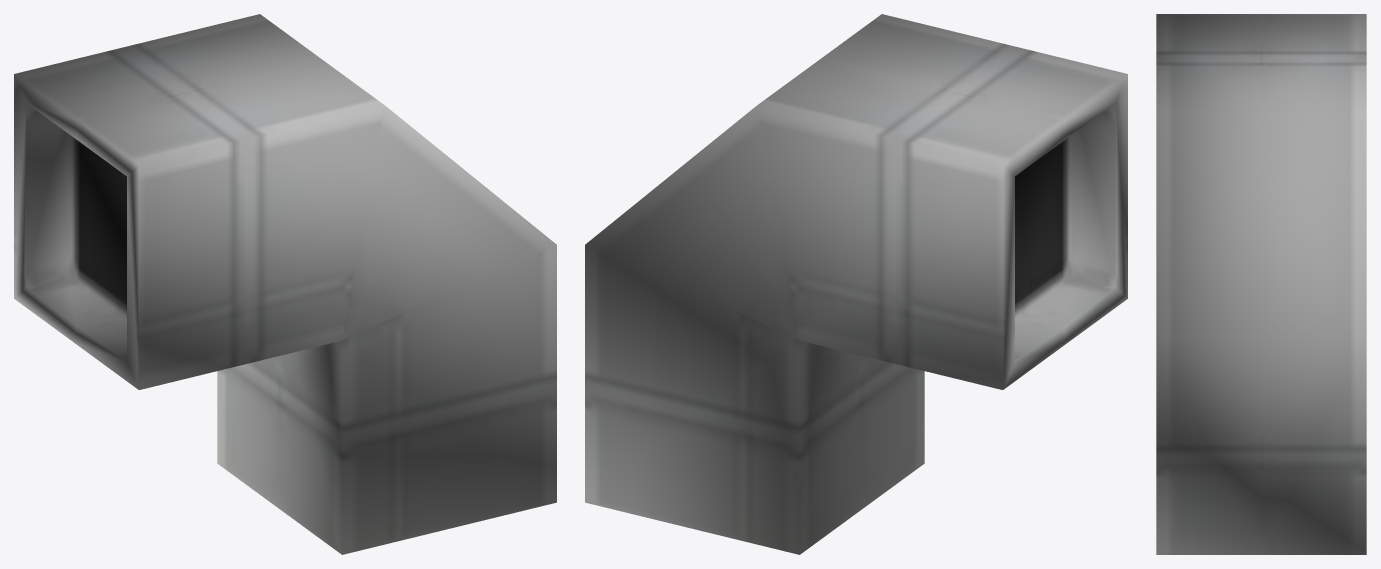
The model's file is Part - Tube 05 corner-C3MPuxyM.glb.
3 views of the same model, side by side, from view 1: azimuth 30°, elevation 25°; view 2: azimuth 150°, elevation 25°; view 3: azimuth 270°, elevation 25° (orthographic). The views are drawn at different scales.
Visible parts, largest first — view 1: Tube_05_corner; view 2: Tube_05_corner; view 3: Tube_05_corner.
Part boxes in pixels (x1,y1,x2,y2): Tube_05_corner: [14, 14, 556, 554]; Tube_05_corner: [585, 14, 1127, 554]; Tube_05_corner: [1156, 14, 1366, 554].
Size of the model in its own units: 0.7721 by 0.7751 by 0.4.
Materials: 1 (1 with a texture image).
